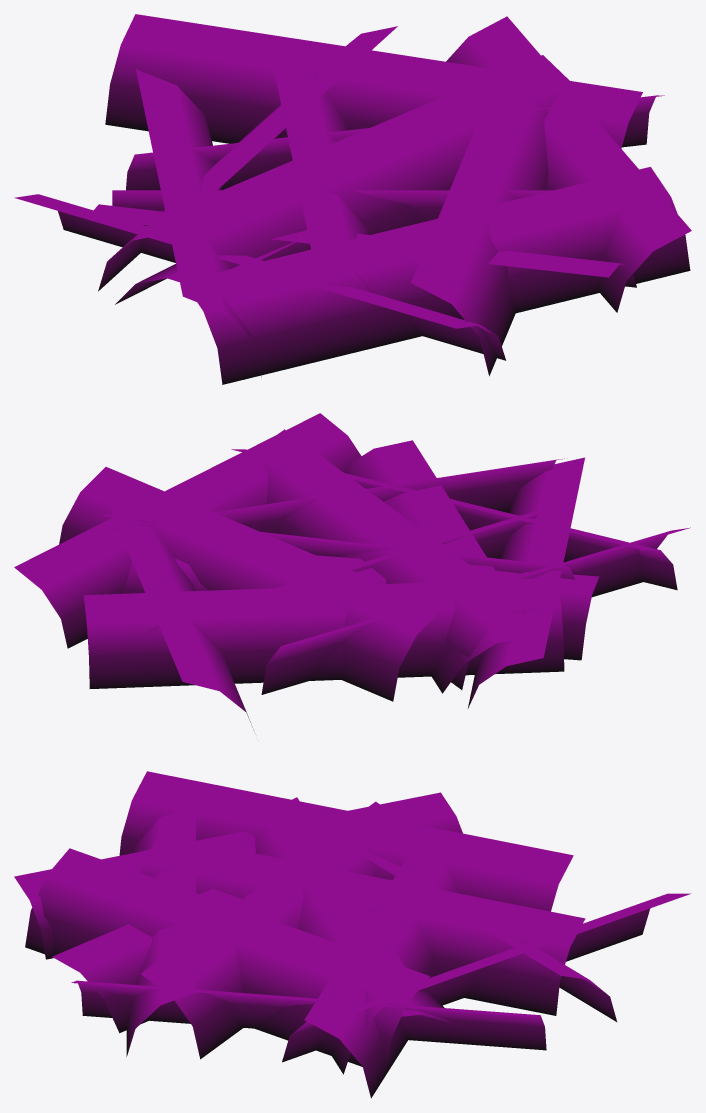
File: Plants_Patch.FBX
The picture shows the model from 3 angles, top to bottom: view 1: azimuth 30°, elevation 25°; view 2: azimuth 150°, elevation 25°; view 3: azimuth 270°, elevation 25°; orthographic projection. The views are drawn at different scales.
Visible parts, largest first — view 1: Grass_02; view 2: Grass_02; view 3: Grass_02.
Boxes of the visible parts, x1,y1,x2,y2 form: Grass_02: (14,14,691,384); Grass_02: (14,413,690,729); Grass_02: (14,771,690,1098).
Size of the model in its own units: 2.92 by 0.4161 by 3.32.
